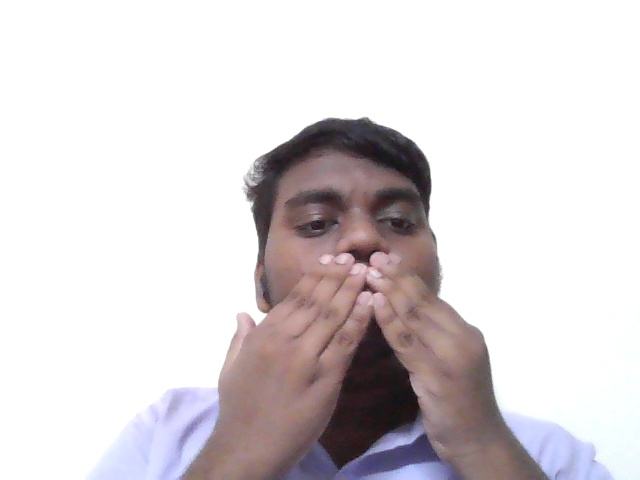Thank you: (200, 240, 518, 435)
